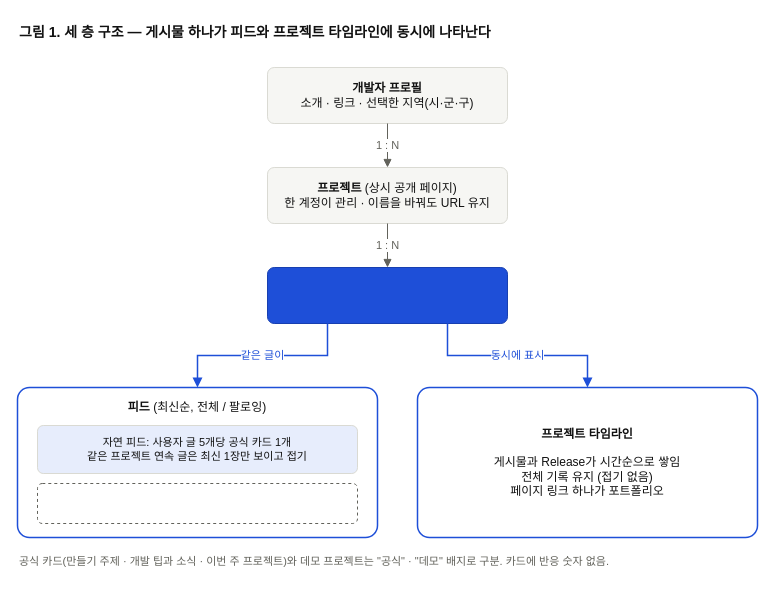
The diagram is 776 pixels wide and 590 high, and some of its shapes have lost their labels. Each missing label, with the box of its shape:
게시물 · Release 반드시 프로젝트 1개에 연결: (266, 266, 508, 324)
광고 자리 1칸 — 자연 피드와 분리, "광고" 표시 (Featured): (36, 482, 358, 524)
